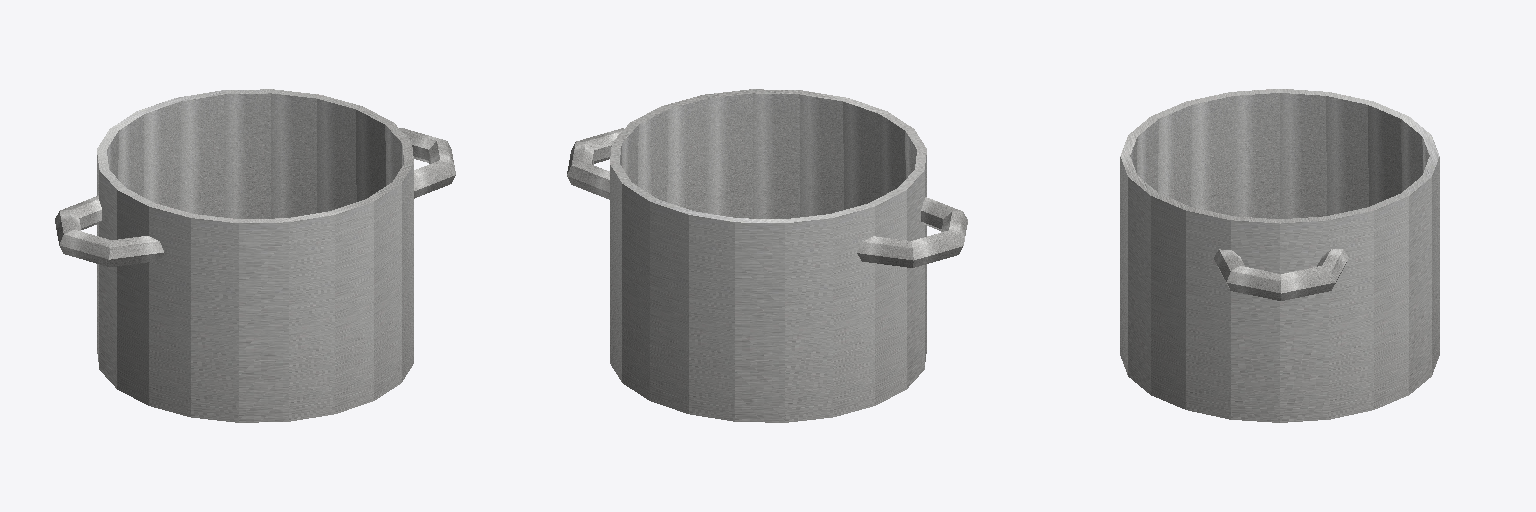
3 renders of one model, left to right at view 1: azimuth 30°, elevation 25°; view 2: azimuth 150°, elevation 25°; view 3: azimuth 270°, elevation 25°, orthographic.
Visible parts, largest first — view 1: Cylinder_Cylinder.001, Torus.001_Torus.002, Torus; view 2: Cylinder_Cylinder.001, Torus.001_Torus.002, Torus; view 3: Cylinder_Cylinder.001, Torus.
Part boxes in pixels (bbox=[...]): Cylinder_Cylinder.001: bbox=[97, 89, 413, 422]; Torus.001_Torus.002: bbox=[55, 195, 164, 266]; Torus: bbox=[399, 128, 455, 198]; Cylinder_Cylinder.001: bbox=[610, 89, 926, 422]; Torus.001_Torus.002: bbox=[857, 197, 967, 267]; Torus: bbox=[567, 128, 623, 199]; Cylinder_Cylinder.001: bbox=[1120, 89, 1439, 422]; Torus: bbox=[1214, 249, 1348, 300].
Size of the model in its own units: 0.6321 by 0.307 by 0.4455.
Materials: 1 (1 with a texture image).